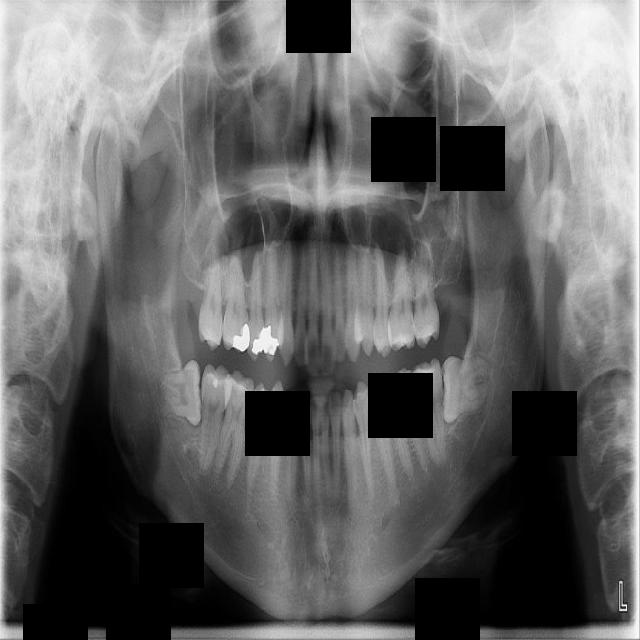52: (197, 360, 237, 405), (380, 364, 415, 410), (409, 356, 444, 398), (220, 313, 252, 352), (262, 322, 285, 363), (245, 326, 265, 362)
73: (578, 549, 587, 570)
BioHorizons Implant: (412, 236, 440, 349)
Biomet 3i Implant: (438, 352, 491, 425)
Blue Sky Bio Implant: (408, 357, 455, 467)
Caries: (197, 237, 225, 350)
Implant: (193, 361, 233, 473)
Keystone Dental Implant: (160, 359, 203, 427)
